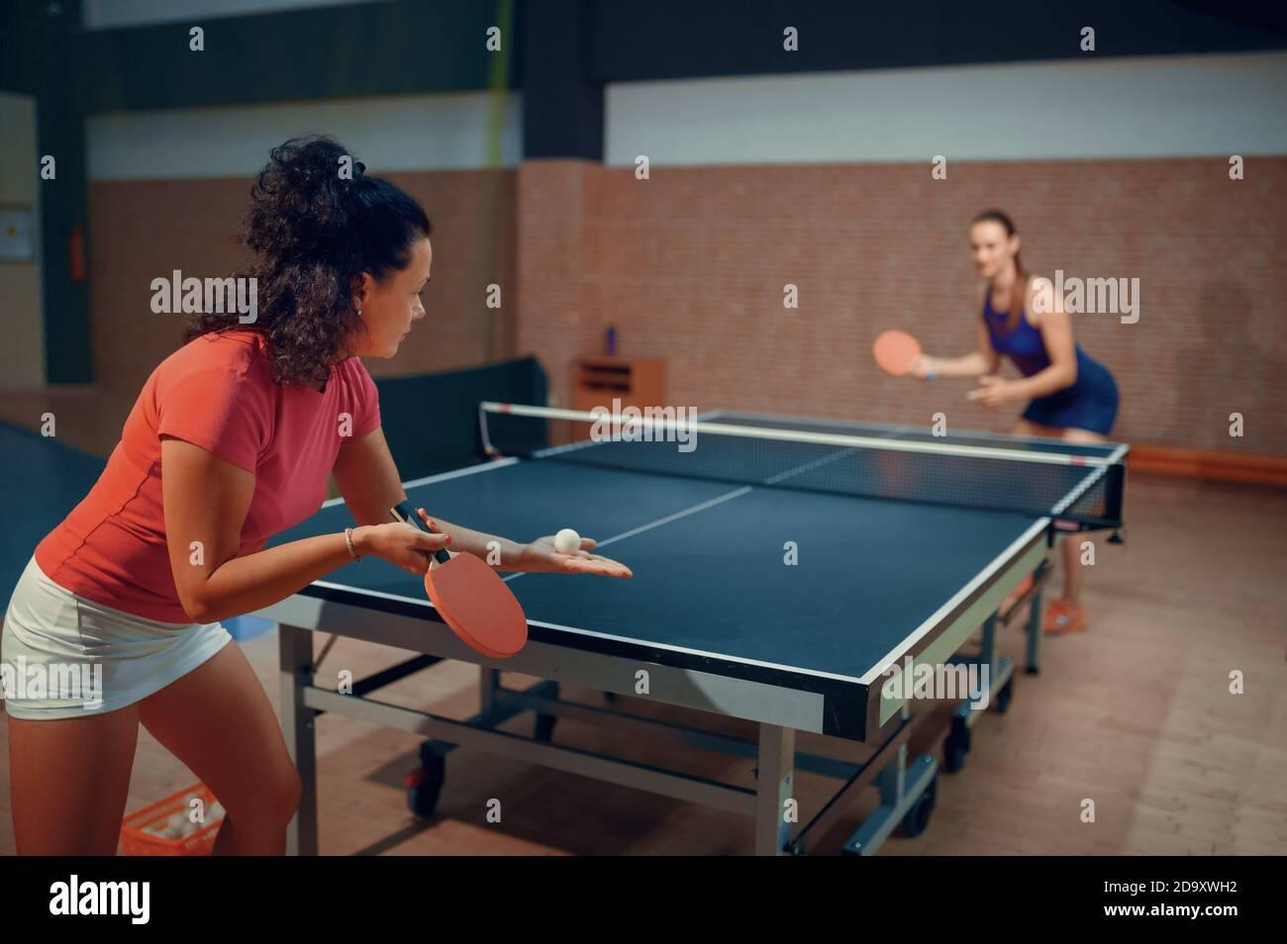ball_pingpong: (554, 527, 584, 554)
